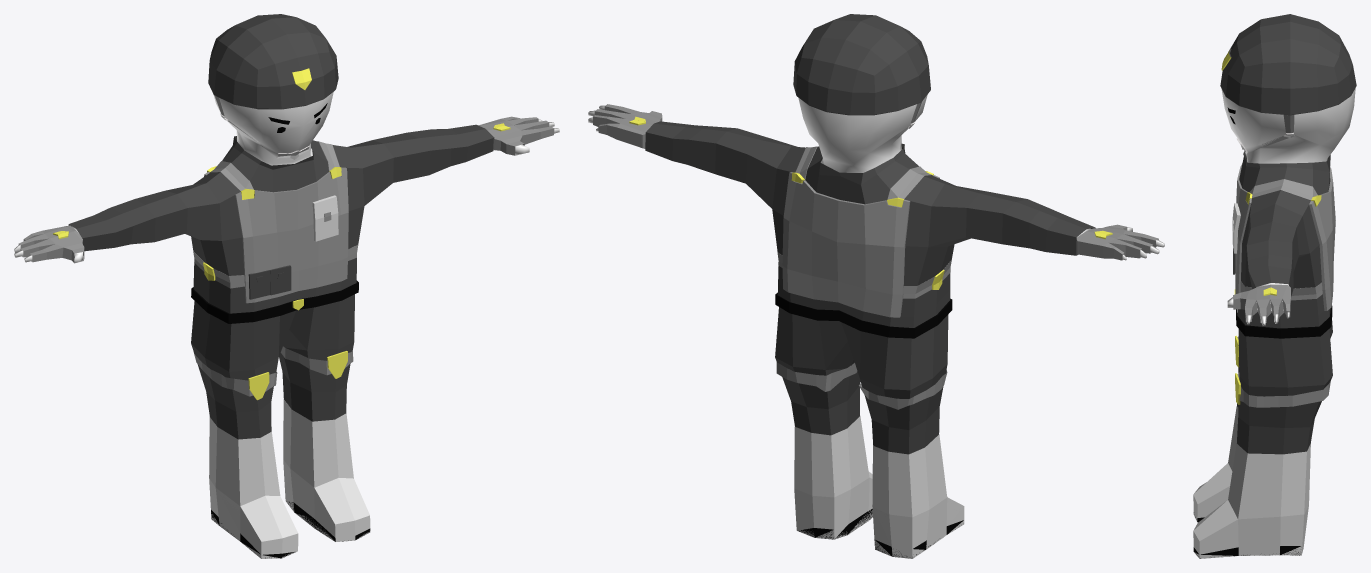
Rendered from solider.fbx.
3 renders of one model, left to right at view 1: azimuth 30°, elevation 25°; view 2: azimuth 150°, elevation 25°; view 3: azimuth 270°, elevation 25°, orthographic. The views are drawn at different scales.
Visible parts, largest first — view 1: Cube.004, Cube.011, Cube.010, Cube.001, Cube.006, Cube, Cube.003, Cube.012, Cube.005, Cube.014, Cube.019; view 2: Cube.004, Cube.010, Cube.011, Cube.007, Cube.001, Cube, Cube.003, Cube.012, Cube.005, Cube.018, Cube.019; view 3: Cube.011, Cube.001, Cube.004, Cube.010, Cube, Cube.007, Cube.003, Cube.012, Cube.018, Cube.005, Cube.006, Cube.008 (+2 smaller).
Part boxes in pixels (<box>): Cube.004: <box>68,124,494,313</box>; Cube.011: <box>209,399,370,558</box>; Cube.010: <box>191,294,354,439</box>; Cube.001: <box>208,14,338,109</box>; Cube.006: <box>235,167,348,303</box>; Cube: <box>14,92,559,424</box>; Cube.003: <box>18,116,554,263</box>; Cube.012: <box>191,280,358,323</box>; Cube.005: <box>207,141,341,199</box>; Cube.014: <box>312,195,338,241</box>; Cube.019: <box>194,353,277,396</box>; Cube.004: <box>645,121,1095,327</box>; Cube.010: <box>775,307,948,454</box>; Cube.011: <box>794,416,964,558</box>; Cube.007: <box>782,172,910,317</box>; Cube.001: <box>793,14,930,115</box>; Cube: <box>588,95,1164,446</box>; Cube.003: <box>593,104,1158,260</box>; Cube.012: <box>775,293,952,338</box>; Cube.005: <box>791,146,933,207</box>; Cube.018: <box>776,362,857,391</box>; Cube.019: <box>859,370,947,409</box>; Cube.011: <box>1193,406,1310,558</box>; Cube.001: <box>1220,14,1356,115</box>; Cube.004: <box>1237,151,1330,328</box>; Cube.010: <box>1237,321,1332,454</box>; Cube: <box>1221,88,1355,325</box>; Cube.007: <box>1309,167,1335,310</box>; Cube.003: <box>1233,284,1290,322</box>; Cube.012: <box>1234,289,1332,338</box>; Cube.018: <box>1237,372,1330,407</box>; Cube.005: <box>1245,179,1321,206</box>; Cube.006: <box>1235,164,1251,294</box>; Cube.008: <box>1240,281,1322,300</box>.
Size of the model in its own units: 662 by 585 by 169.
